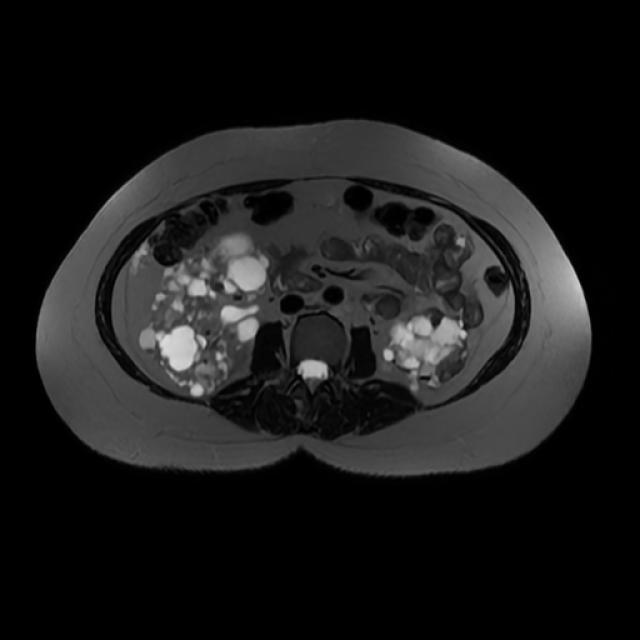sag: (138, 231, 267, 395)
sol: (385, 310, 469, 392)
